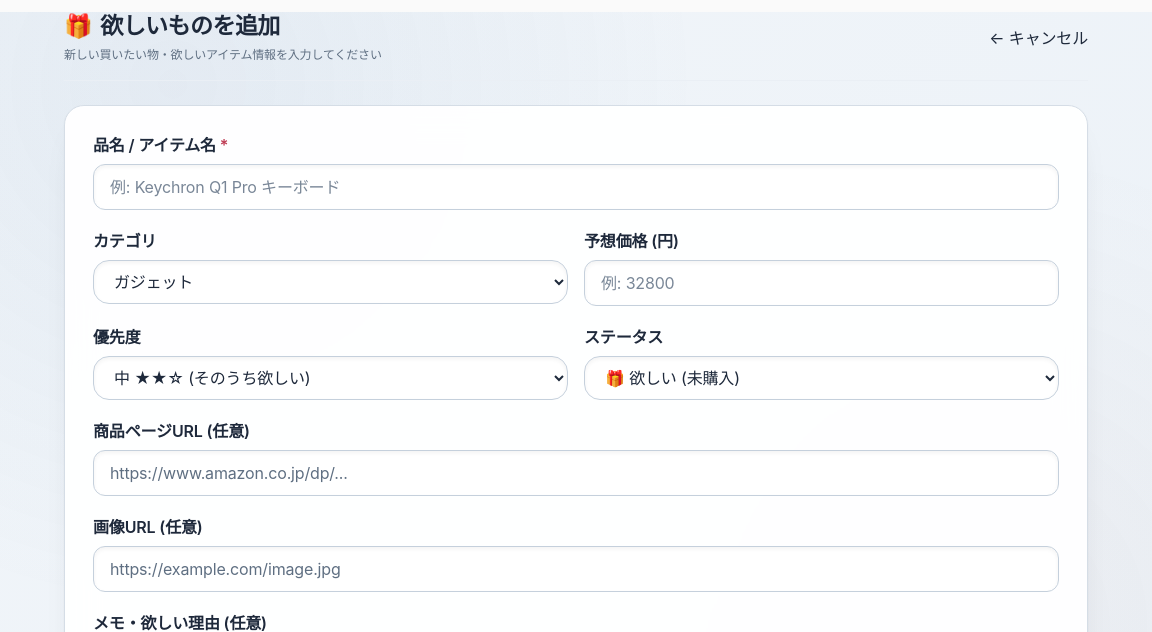
Test: Wishlist experience › provides labeled, consistent fields in the create form
Check: the number field labelled "予想価格 (円)" is shown, box [584,260,1059,306]
Check: the dropdown labelled "優先度" is shown, box [93,356,568,400]
Select "＋ 直接入力..." in the dropdown labelled "カテゴリ" at coordinates (330, 282), box [93,260,568,304]
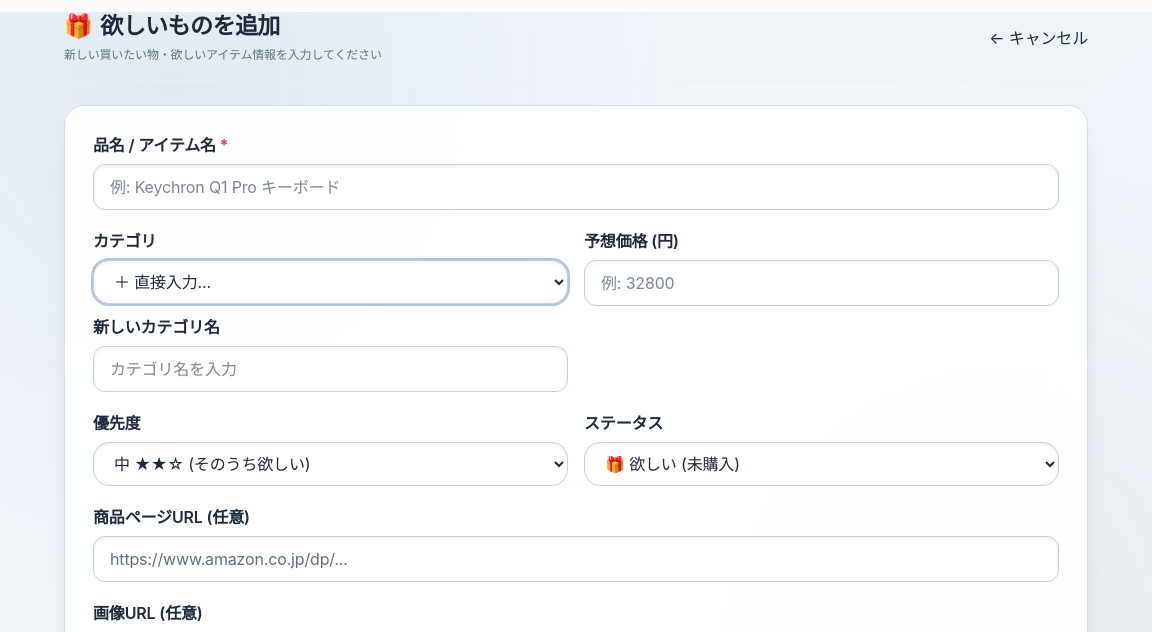
Check: the field labelled "新しいカテゴリ名" is shown, box [93,346,568,392]
